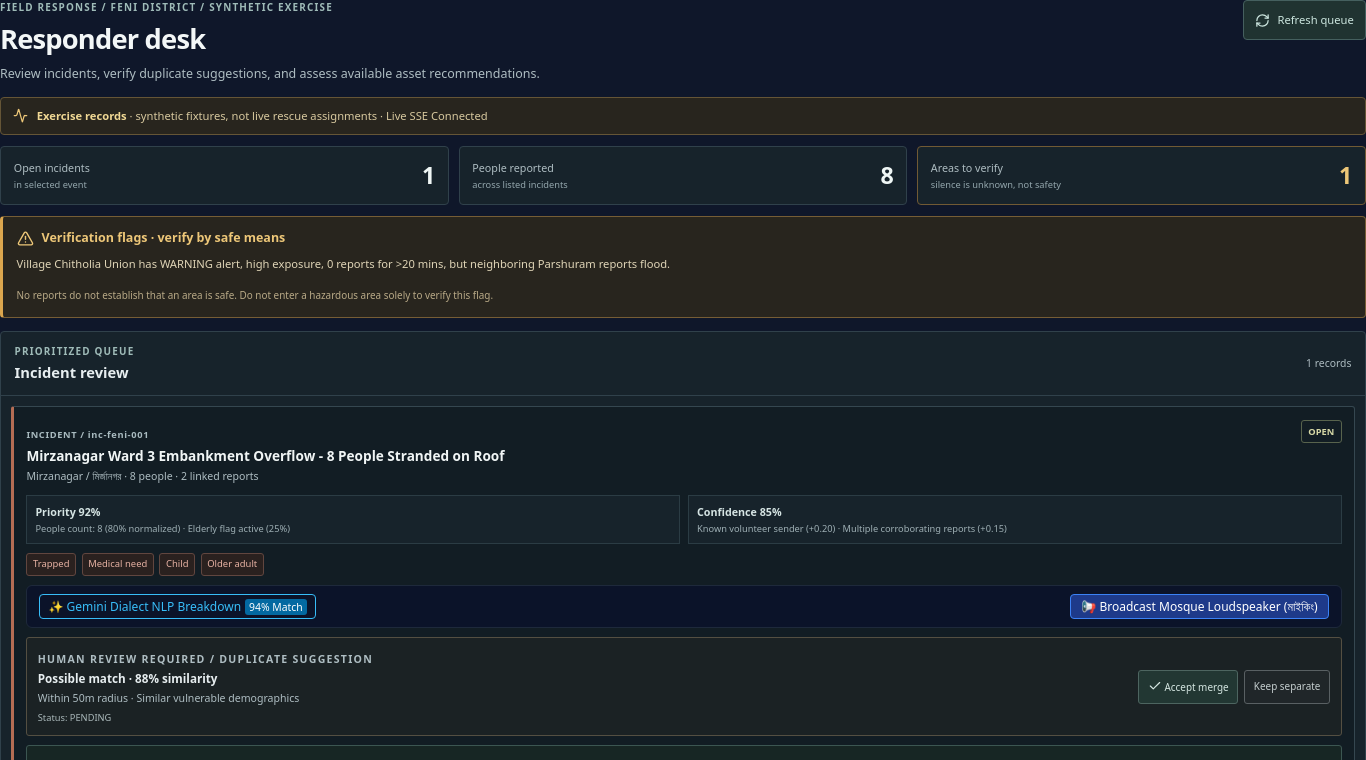
Test: ResponderDashboard Component › handles human review actions for duplicates with audit feedback
Click the button "Accept merge": {"x": 1188, "y": 686} [1138, 670, 1238, 704]
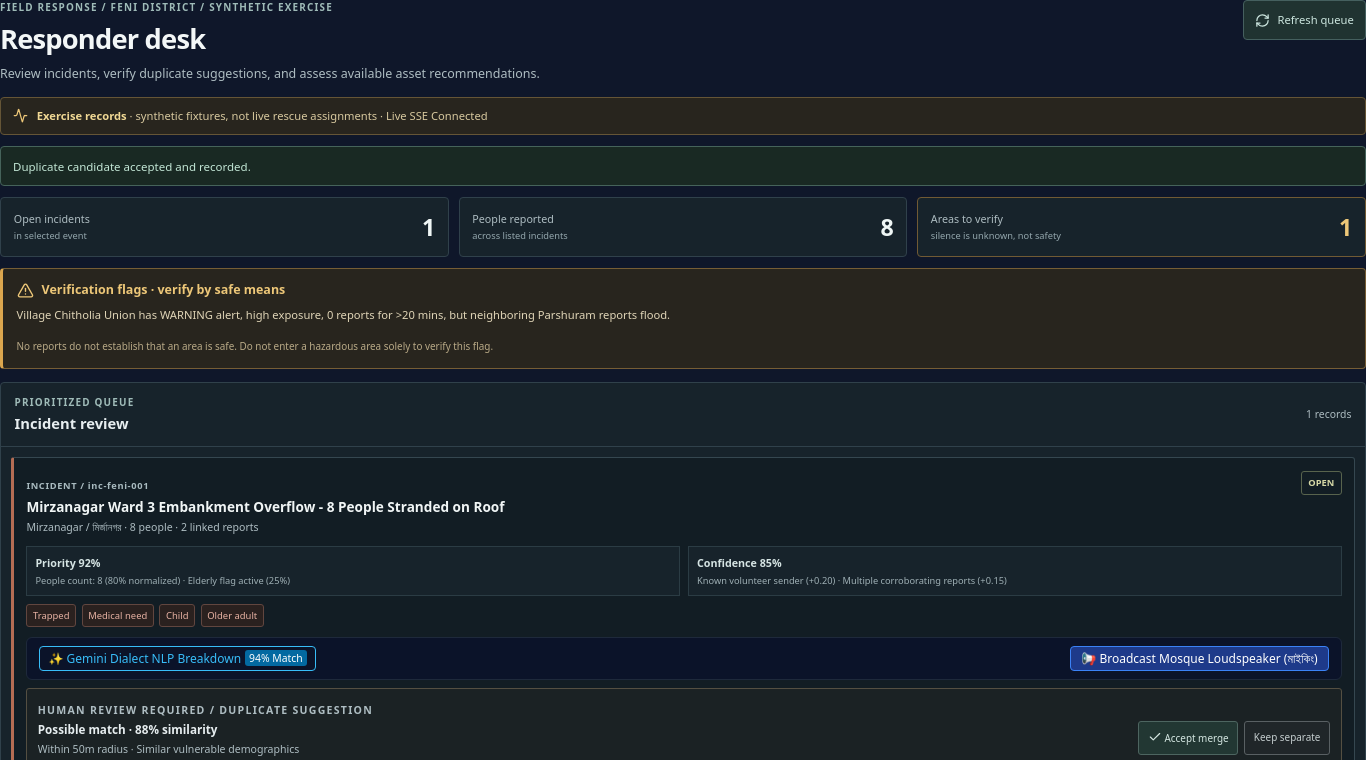
Check: the text "Duplicate candidate accepted and recorded." is shown, box [0, 146, 1365, 186]
